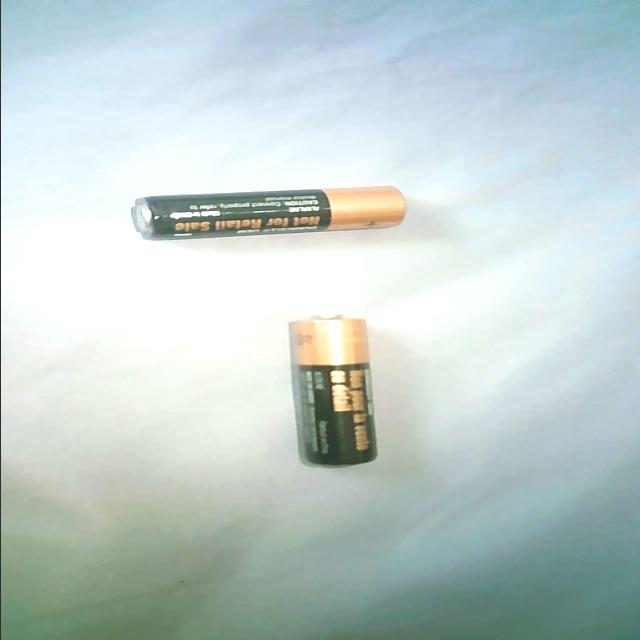AA: (130, 185, 407, 241), (288, 314, 380, 468)
